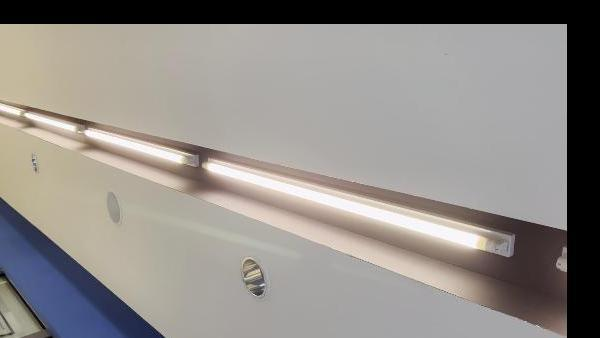light_on: (197, 151, 518, 272), (82, 121, 203, 173), (19, 109, 79, 135), (0, 101, 28, 115)
